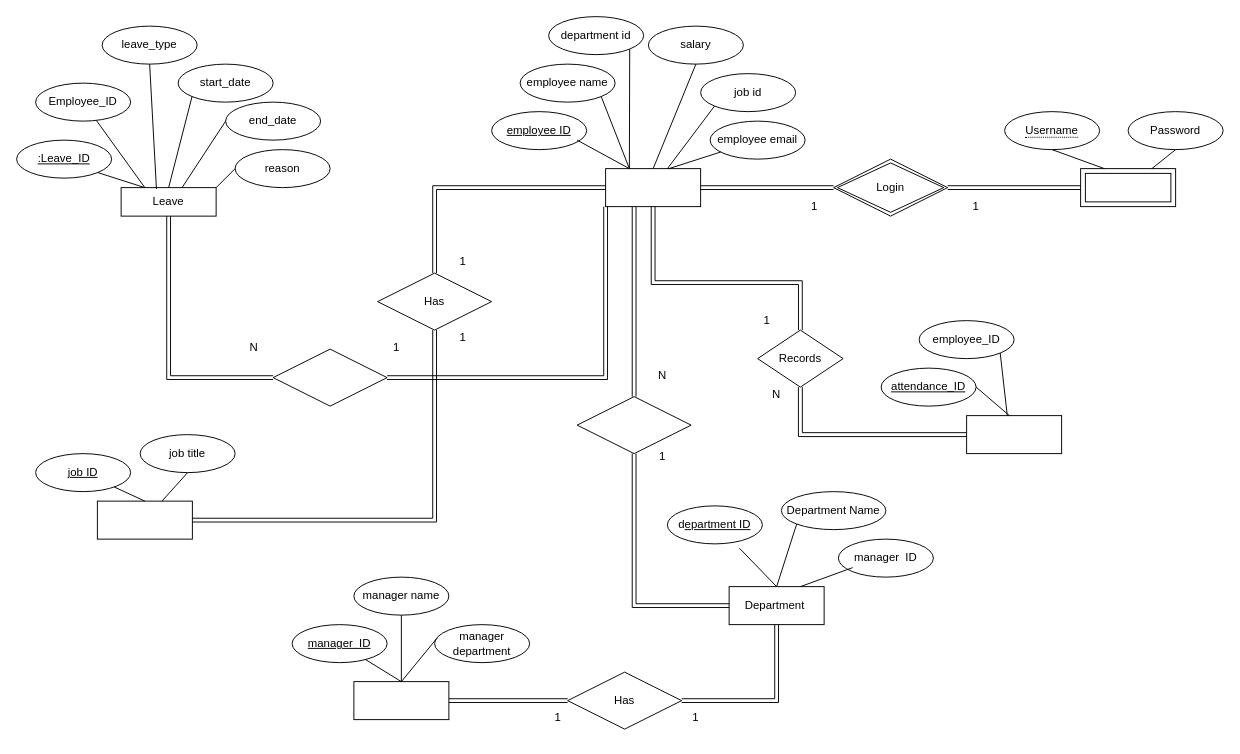
The diagram is 1240 pixels wide and 754 high, and some of its shapes have lost their labels. Here are the shapes that lost their labels. From the top down, the box of each, then its label:
(605, 168, 701, 207): Employee
(1080, 168, 1176, 207): Login Details
(272, 348, 387, 406): Request
(576, 396, 691, 454): works in
(966, 415, 1062, 454): Attendance
(96, 500, 192, 539): Job
(353, 681, 449, 720): Manager
